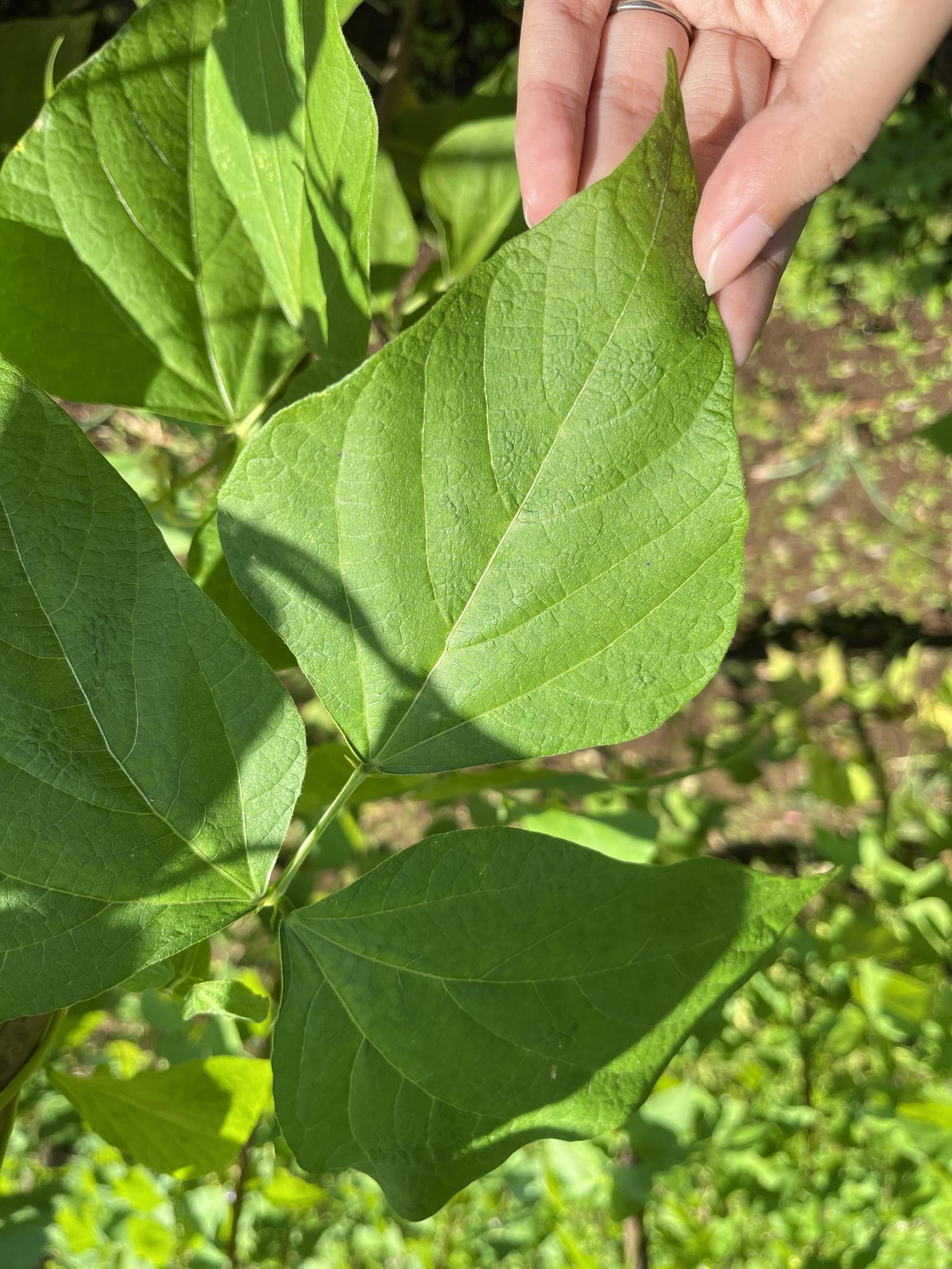sehat: (221, 46, 747, 790)
